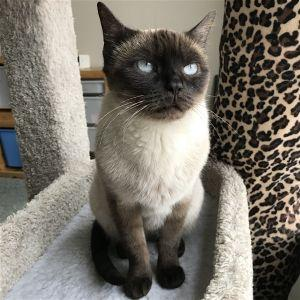siamese: (91, 1, 231, 130)
